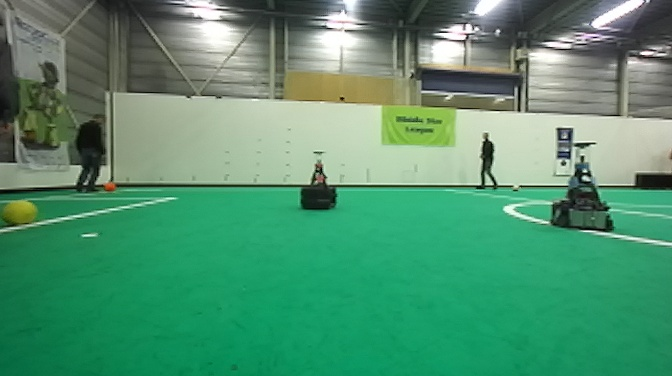ball: (1, 197, 41, 229), (100, 177, 118, 194), (509, 181, 523, 195)
human: (72, 111, 110, 196), (474, 127, 504, 191)
robot: (547, 137, 617, 236), (297, 146, 341, 215)
